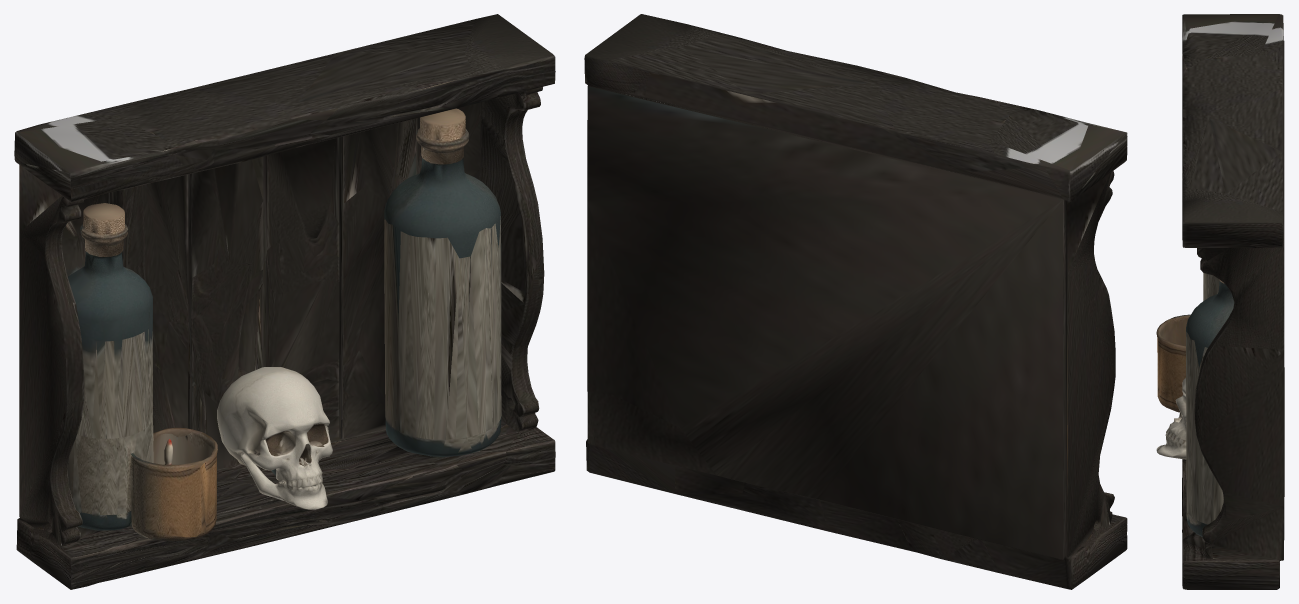
File: jar_shelf.glb
3 views of the same model, side by side, from view 1: azimuth 30°, elevation 25°; view 2: azimuth 150°, elevation 25°; view 3: azimuth 270°, elevation 25° (orthographic). The views are drawn at different scales.
Visible parts, largest first — view 1: body; view 2: body; view 3: body.
Part boxes in pixels (x1=…): body: x1=14, y1=14, x2=555, y2=589; body: x1=584, y1=14, x2=1127, y2=589; body: x1=1156, y1=14, x2=1284, y2=589.
Size of the model in its own units: 1.09 by 0.8995 by 0.2832.
1 material, 1 textured.
